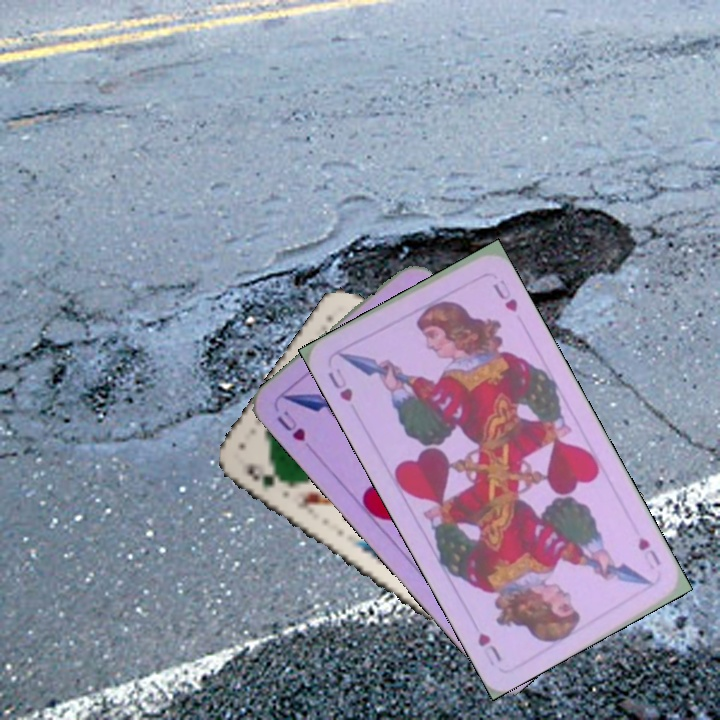GK: (242, 459, 292, 491)
HU: (272, 406, 308, 444), (323, 364, 356, 404), (633, 533, 664, 572)
